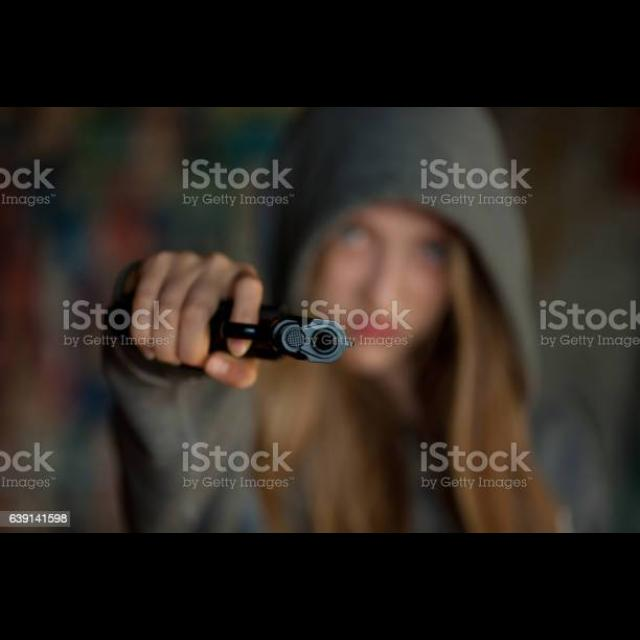handgun: (214, 298, 356, 367)
